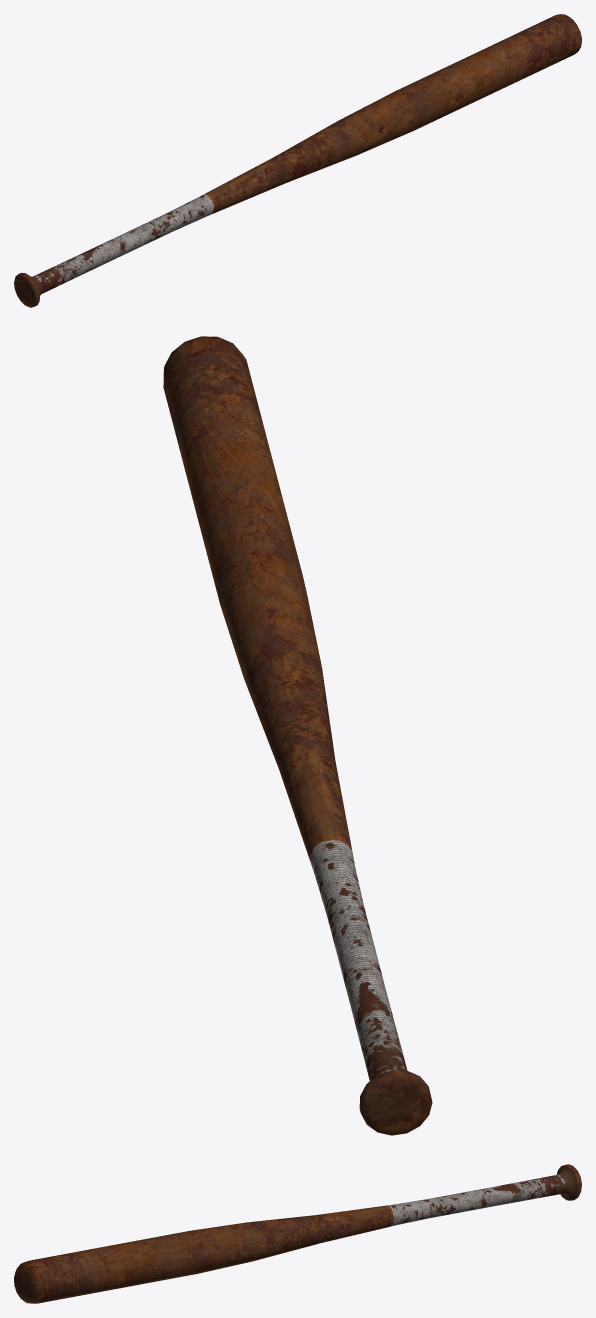
The model's file is Anim_idle_bate_objetos.0048.obj.
3 renders of one model, top to bottom at view 1: azimuth 90°, elevation 25°; view 2: azimuth 150°, elevation 25°; view 3: azimuth 270°, elevation 25°, orthographic. The views are drawn at different scales.
Parts seen in each view (by area): view 1: Bate1; view 2: Bate1; view 3: Bate1.
Boxes of the visible parts, x1,y1,x2,y2 form: Bate1: (14, 14, 581, 307); Bate1: (163, 336, 432, 1135); Bate1: (14, 1164, 581, 1303).
Size of the model in its own units: 3.47 by 0.9567 by 4.33.
